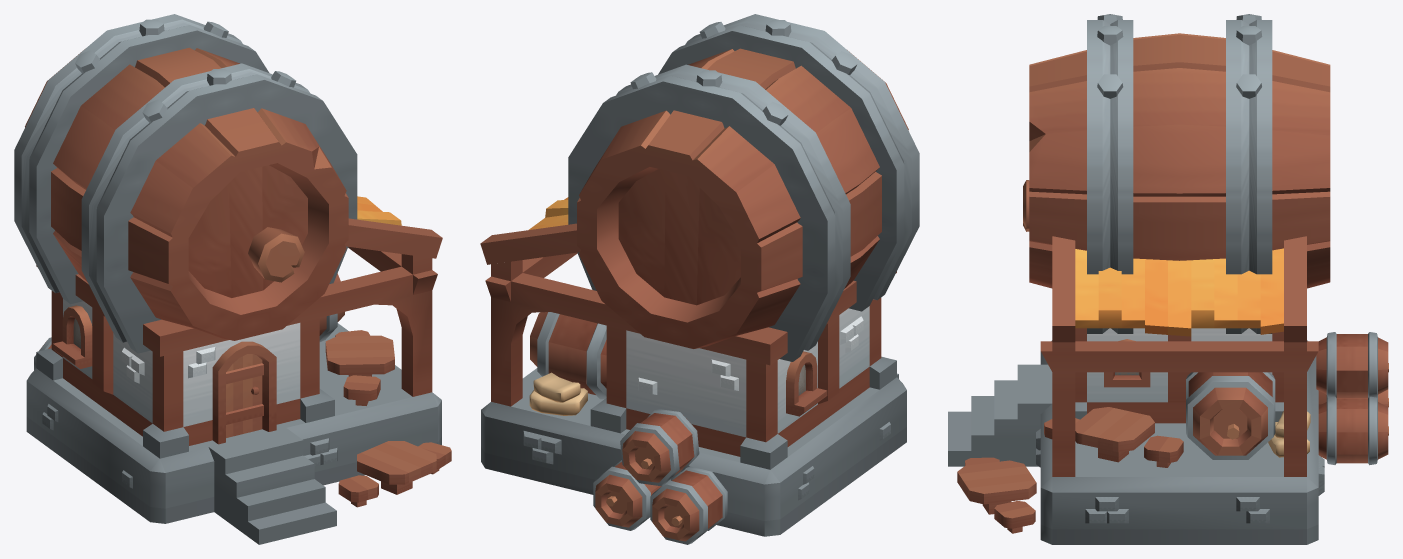
Rendered from medieval-hexa-building-tavern-yellow.gltf.
3 renders of one model, left to right at view 1: azimuth 30°, elevation 25°; view 2: azimuth 150°, elevation 25°; view 3: azimuth 270°, elevation 25°, orthographic. The views are drawn at different scales.
Parts seen in each view (by area): view 1: building_tavern_yellow; view 2: building_tavern_yellow; view 3: building_tavern_yellow.
Boxes of the visible parts, x1,y1,x2,y2 form: building_tavern_yellow: [14, 14, 451, 544]; building_tavern_yellow: [480, 14, 919, 544]; building_tavern_yellow: [948, 14, 1388, 544].
Bounding box in the file's own units: 1.17 × 1.4 × 1.33.
1 material, 1 textured.
